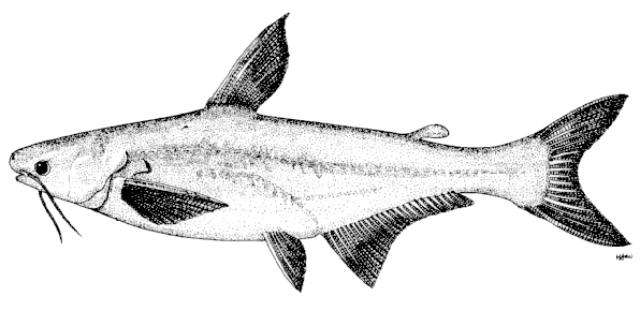Mulut: (6, 142, 34, 190)
Sirip Anal: (327, 192, 475, 294)
Sirip Dada: (119, 174, 229, 230)
Sirip Ekor: (534, 92, 630, 250)
Sirip Perut: (256, 224, 320, 298)
Sirip Punggung: (213, 9, 295, 111)
